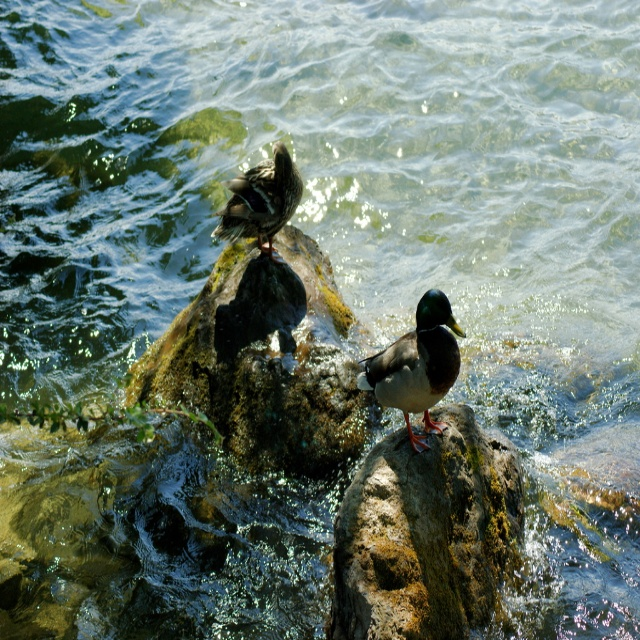Duck: (356, 288, 468, 456), (206, 137, 311, 258)
